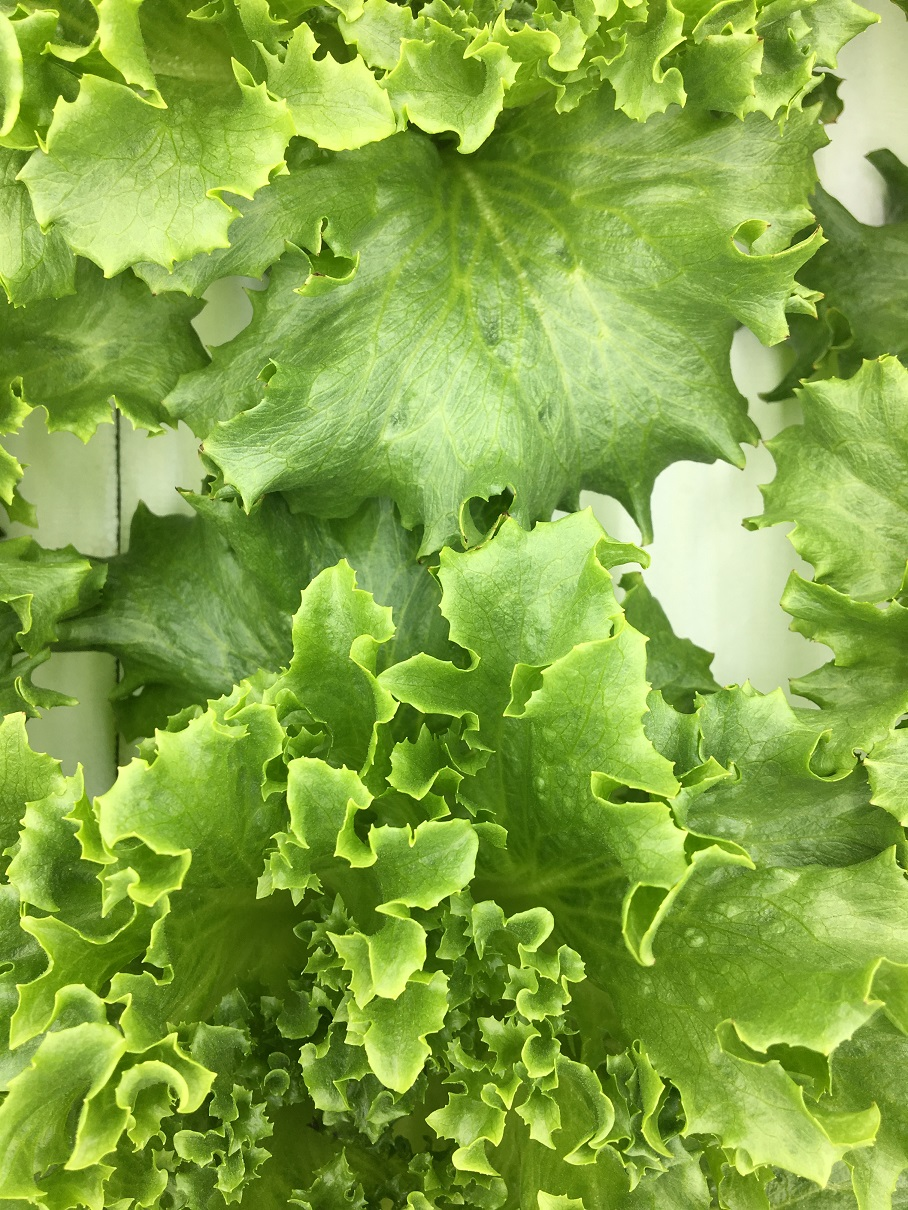tipburn: (748, 206, 787, 243), (817, 103, 856, 139), (725, 504, 761, 543), (184, 429, 221, 466), (302, 257, 339, 293), (493, 497, 531, 532), (740, 21, 777, 56), (768, 318, 804, 353), (805, 207, 839, 240), (404, 548, 438, 579), (462, 533, 494, 565), (165, 477, 200, 506), (246, 367, 279, 396), (628, 529, 658, 560), (140, 277, 169, 308), (811, 295, 831, 322)
